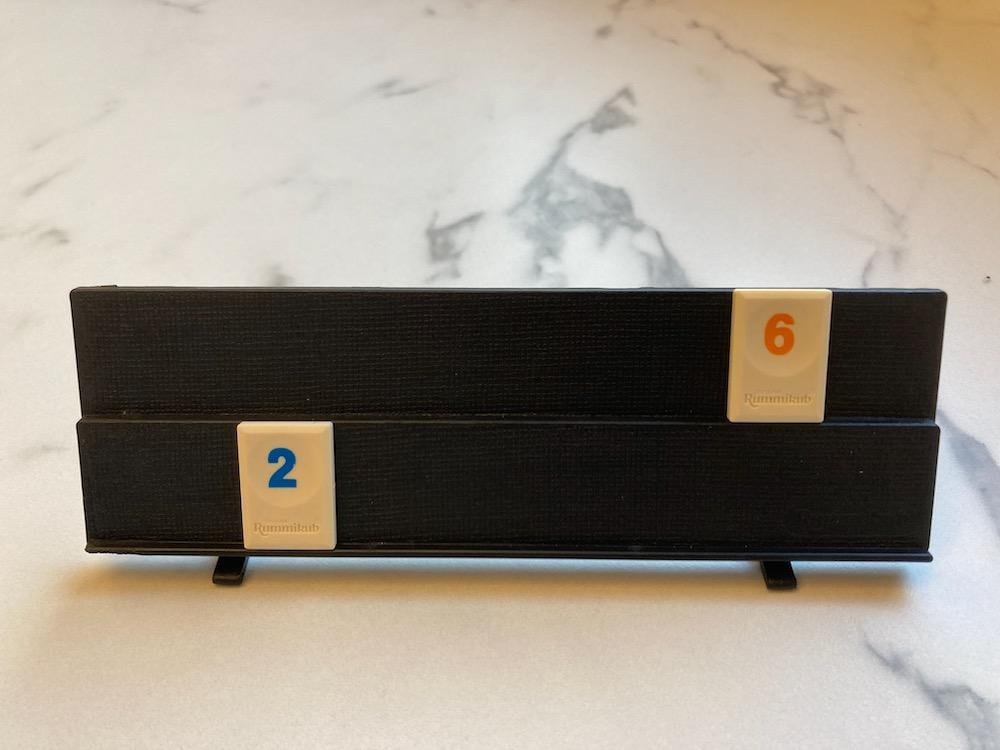blue_2: (238, 423, 336, 551)
orange_6: (727, 289, 832, 422)
